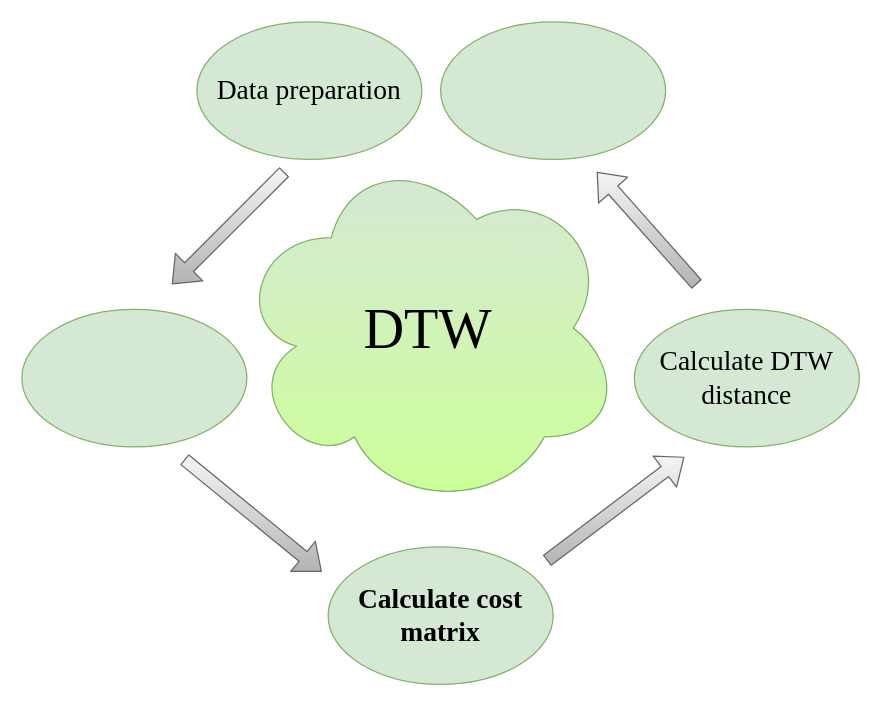
Image size: 881x706. Some labels were removed from this diagram. The shapes that lost their labels are listed below. From the top down, each one's centre as x and y in pixels, then its label:
At [552,90]: "Convert to Matching Degree".
At [134,377]: "Initialize cost matrix".
